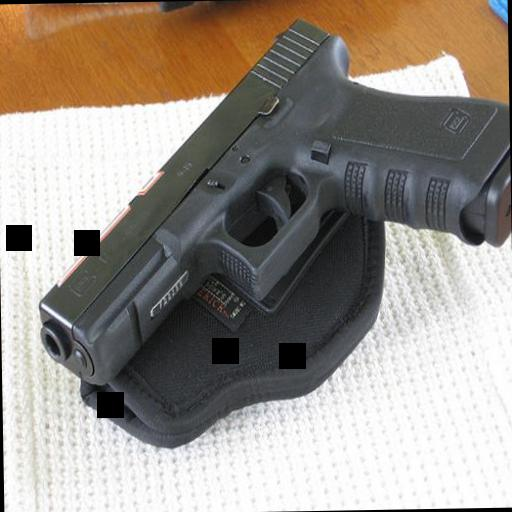Handgun: (30, 14, 512, 384)
